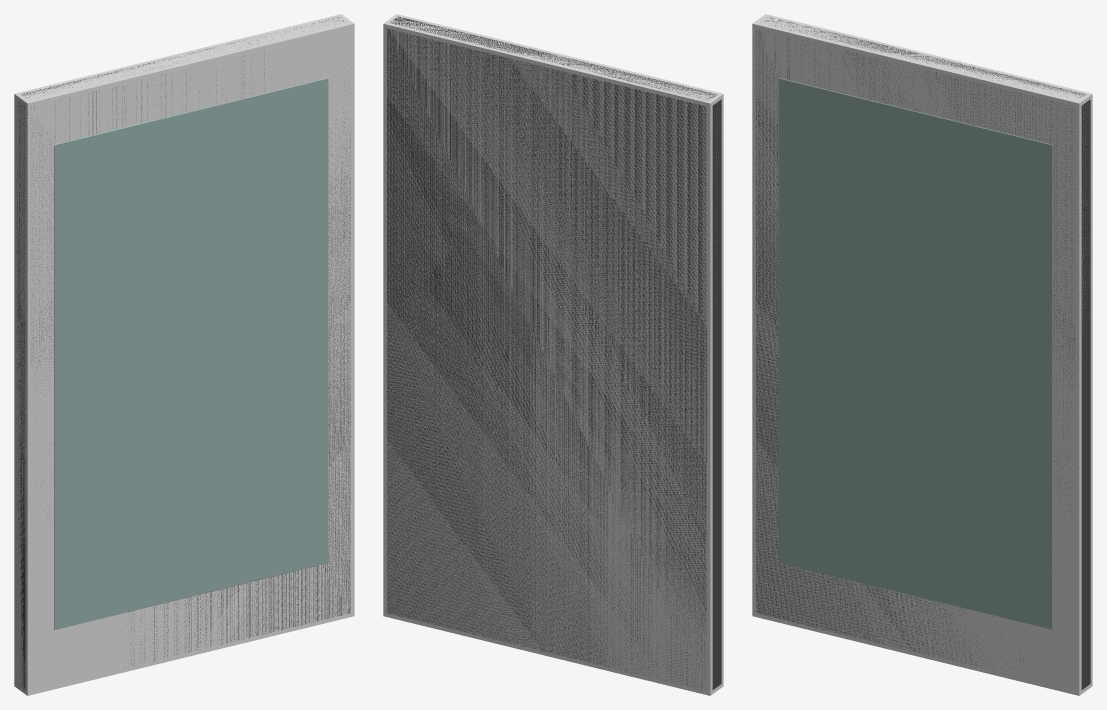
File: mirror_commercial.glb
3 views of the same model, side by side, from view 1: azimuth 30°, elevation 25°; view 2: azimuth 150°, elevation 25°; view 3: azimuth 330°, elevation 25° (orthographic).
Visible parts, largest first — view 1: MESH_Inset, COL_mirror, MESH_Frame; view 2: COL_mirror, MESH_Frame; view 3: MESH_Inset, COL_mirror, MESH_Frame.
Part boxes in pixels (<box>): MESH_Inset: <box>54,78,328,629</box>; COL_mirror: <box>14,14,354,695</box>; MESH_Frame: <box>16,17,350,689</box>; COL_mirror: <box>383,14,723,695</box>; MESH_Frame: <box>387,16,721,689</box>; MESH_Inset: <box>778,78,1052,629</box>; COL_mirror: <box>752,14,1092,695</box>; MESH_Frame: <box>756,17,1090,689</box>.
Size of the model in its own units: 0.78 by 1.35 by 0.0561.
